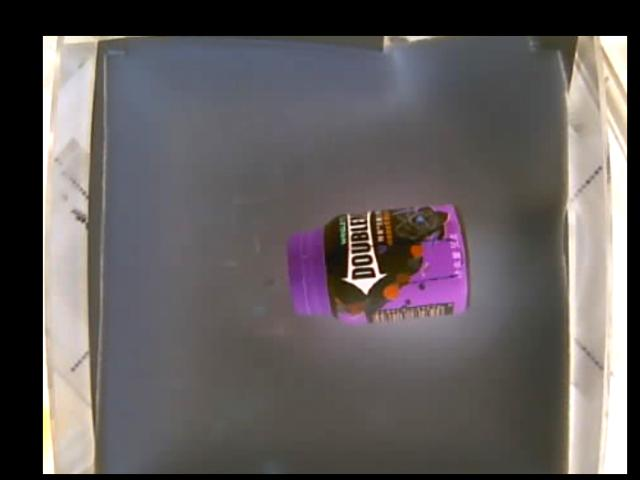Bottle: (286, 203, 471, 324)
